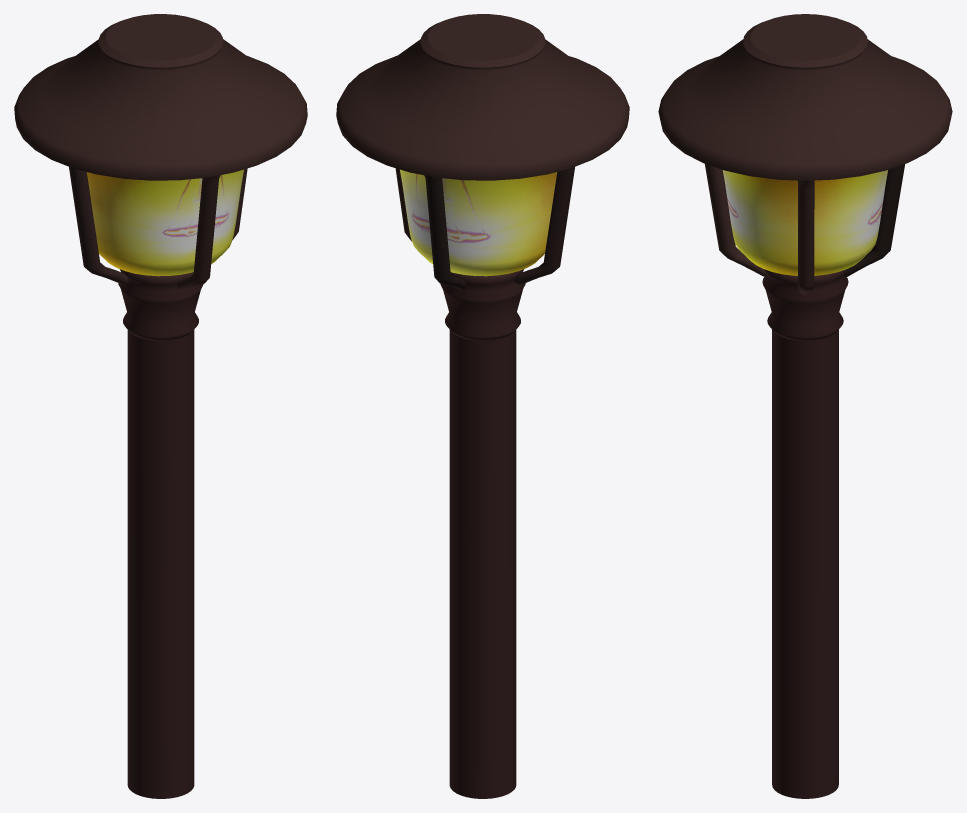
The model's file is Lamp1.fbx.
The picture shows the model from 3 angles, left to right: view 1: azimuth 30°, elevation 25°; view 2: azimuth 150°, elevation 25°; view 3: azimuth 270°, elevation 25°; orthographic projection.
Parts seen in each view (by area): view 1: Cylinder, Cylinder.002, Cylinder.001, Cylinder.003, Cylinder.006; view 2: Cylinder, Cylinder.002, Cylinder.001, Cylinder.003, Cylinder.004; view 3: Cylinder.002, Cylinder, Cylinder.001, Cylinder.005, Cylinder.006, Cylinder.004.
Boxes of the visible parts, left/top/right/bottom form: Cylinder: left=118, top=269, right=203, bottom=798; Cylinder.002: left=14, top=14, right=307, bottom=180; Cylinder.001: left=86, top=169, right=243, bottom=276; Cylinder.003: left=69, top=167, right=129, bottom=284; Cylinder.006: left=176, top=175, right=220, bottom=290; Cylinder: left=440, top=269, right=525, bottom=798; Cylinder.002: left=336, top=14, right=629, bottom=180; Cylinder.001: left=400, top=169, right=557, bottom=276; Cylinder.003: left=514, top=167, right=574, bottom=285; Cylinder.004: left=424, top=175, right=466, bottom=290; Cylinder.002: left=658, top=14, right=952, bottom=180; Cylinder: left=762, top=269, right=848, bottom=798; Cylinder.001: left=722, top=170, right=887, bottom=275; Cylinder.005: left=797, top=180, right=814, bottom=294; Cylinder.006: left=705, top=164, right=766, bottom=276; Cylinder.004: left=844, top=164, right=904, bottom=276.
Size of the model in its own units: 47.45 by 133 by 47.45.
Materials: 7 (1 with a texture image).
